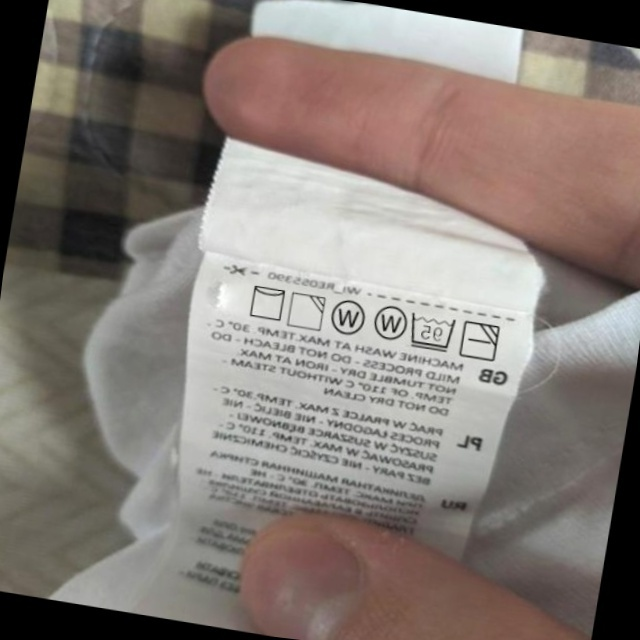95C: (405, 309, 459, 354)
dry_flat_in_shade: (457, 316, 503, 365)
line_dry: (244, 280, 289, 324)
shade_dry: (284, 289, 328, 334)
wet_clean: (368, 299, 410, 344), (327, 296, 369, 340)
